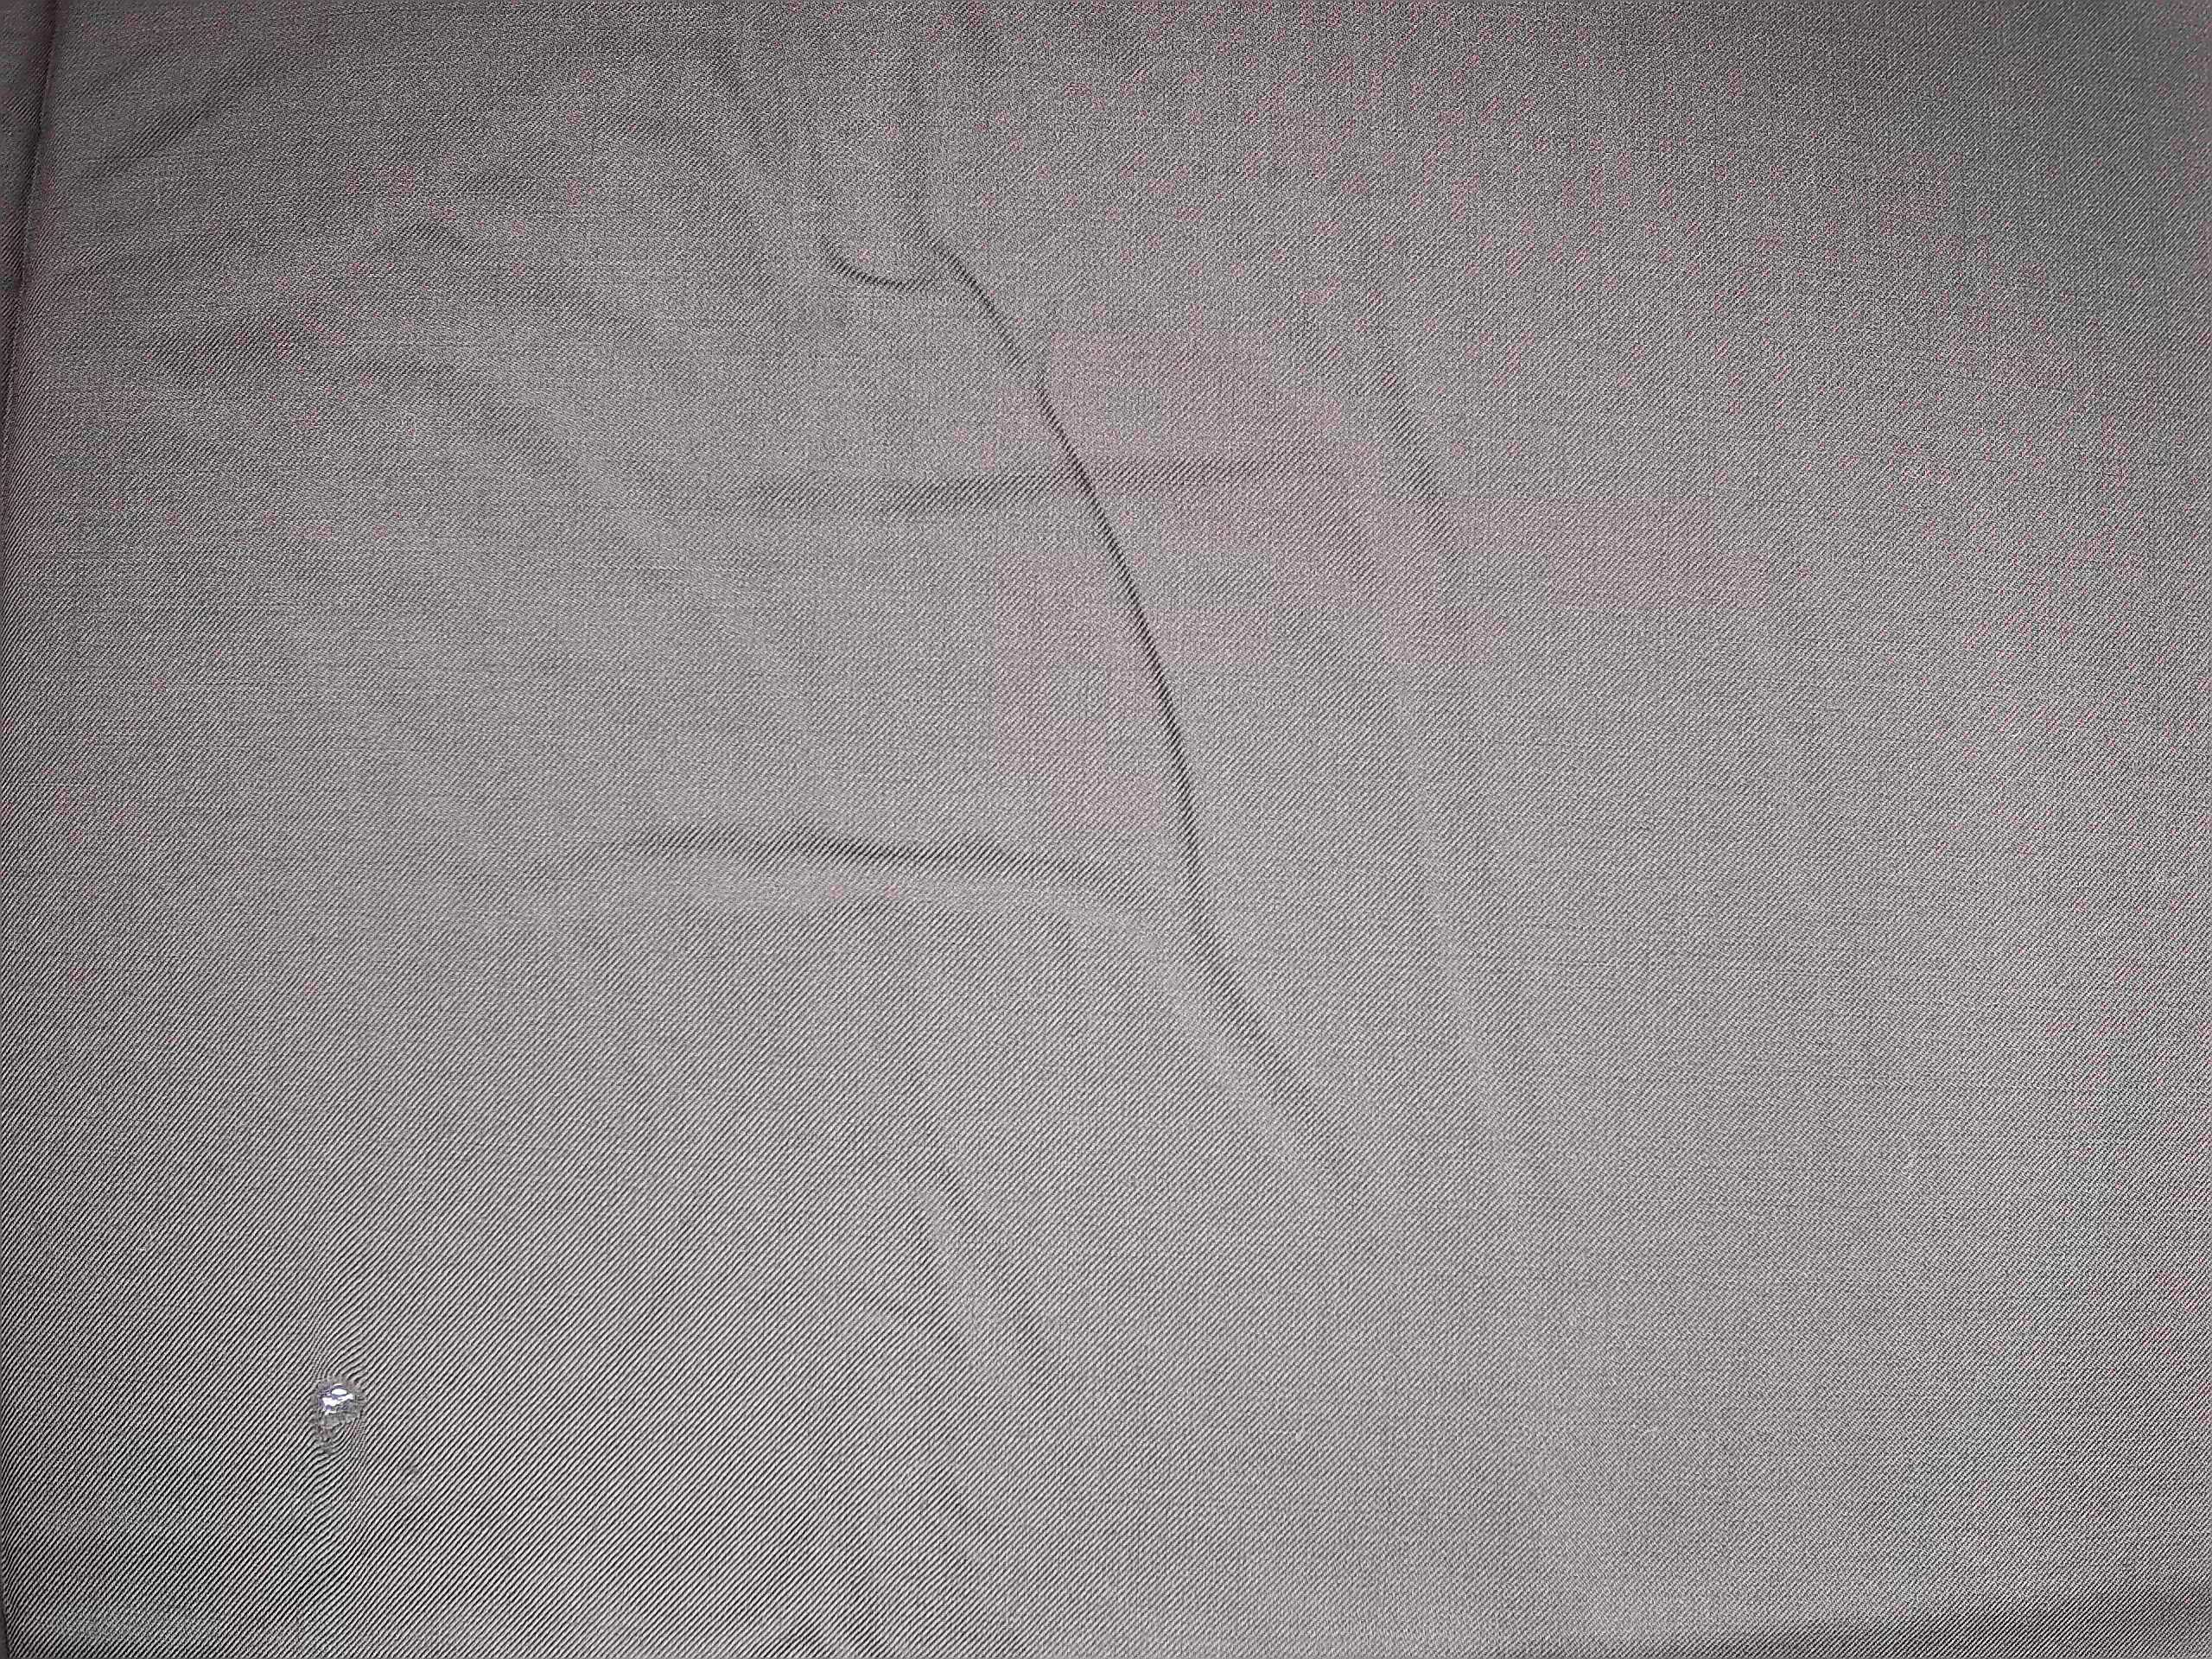rubbing-hole: (282, 1358, 395, 1466)
